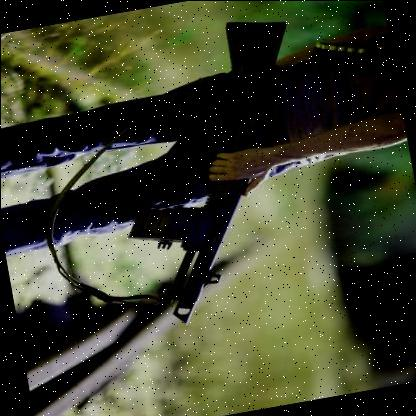rifle: (79, 8, 353, 333)
